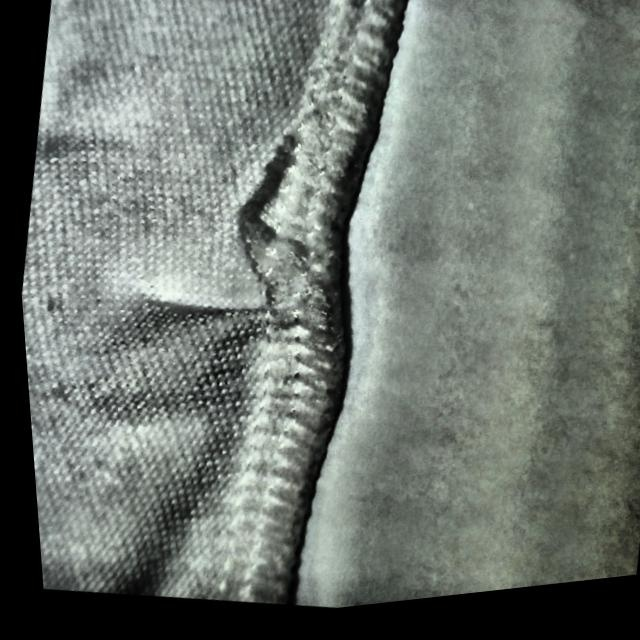seam: (130, 121, 381, 382)
